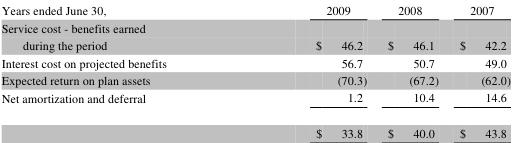table: (0, 0, 509, 140)
table column: (0, 0, 240, 140), (240, 0, 376, 140), (376, 0, 448, 140), (448, 0, 509, 140)
table column header: (0, 0, 509, 18)
table projected row header: (0, 18, 509, 35)
table row: (0, 88, 509, 114), (0, 114, 509, 140), (0, 0, 509, 18), (0, 35, 509, 53), (0, 70, 509, 88), (0, 18, 509, 35), (0, 53, 509, 70)
